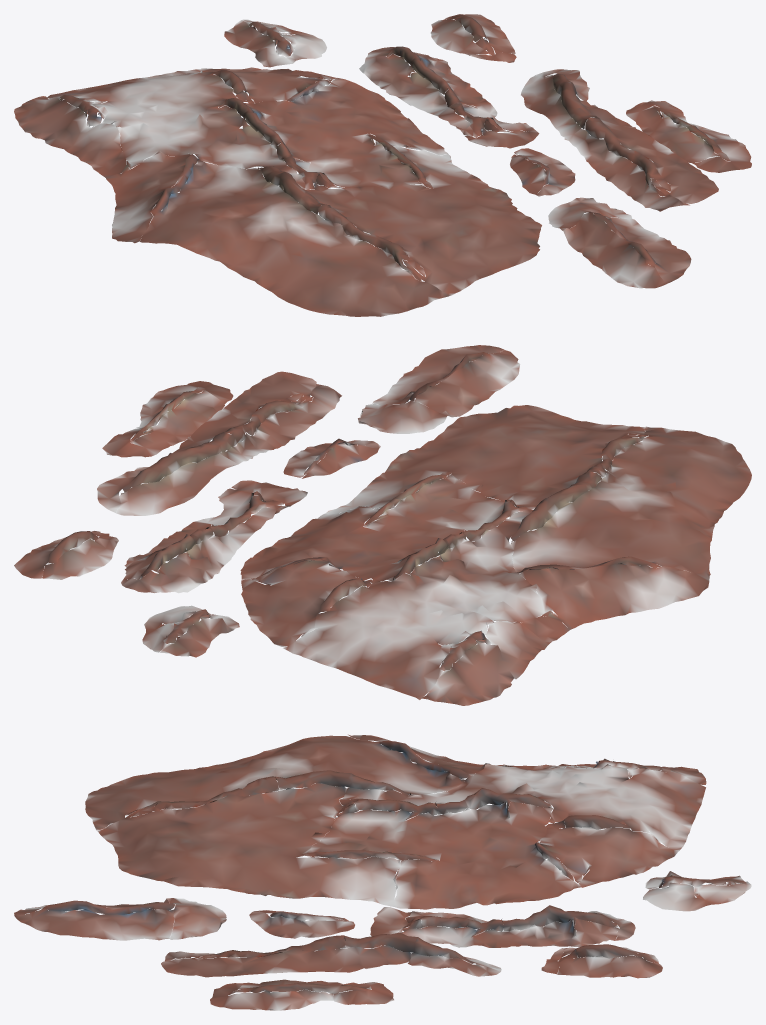
The model's file is root_cluster_02.fbx.
3 renders of one model, top to bottom at view 1: azimuth 30°, elevation 25°; view 2: azimuth 150°, elevation 25°; view 3: azimuth 270°, elevation 25°, orthographic. The views are drawn at different scales.
Visible parts, largest first — view 1: root_cluster_02; view 2: root_cluster_02; view 3: root_cluster_02.
Boxes of the visible parts, <box> form: root_cluster_02: <box>14,14,751,316</box>; root_cluster_02: <box>14,345,751,705</box>; root_cluster_02: <box>14,734,751,1010</box>.
Bounding box in the file's own units: 2.38 × 0.1968 × 2.71.
